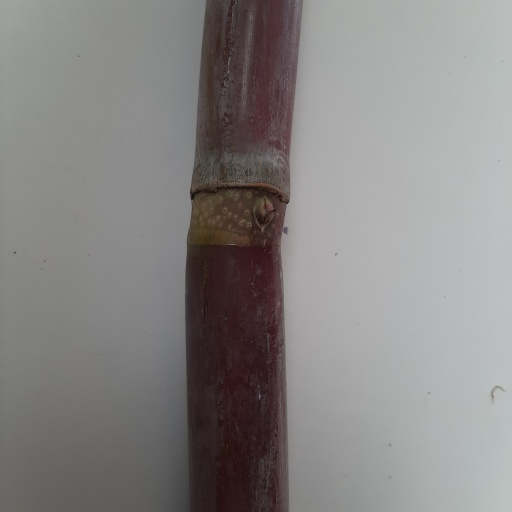Bud: (253, 193, 276, 232)
